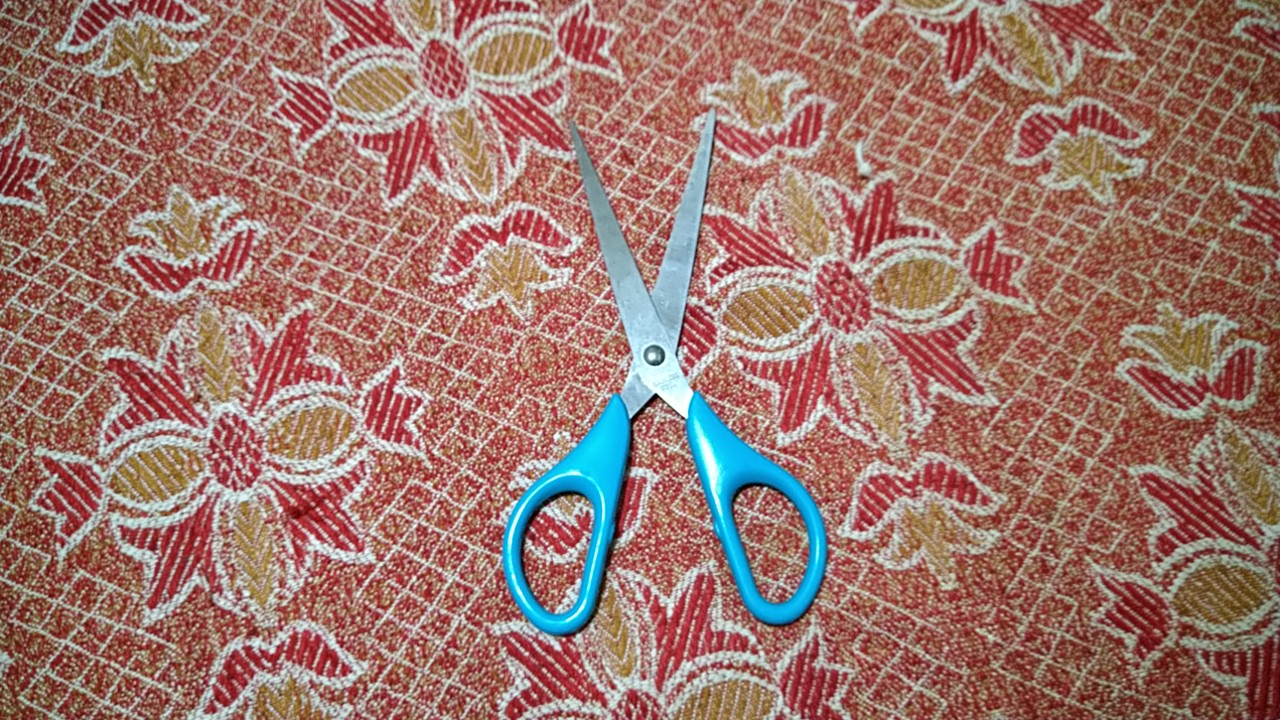scissor: (477, 100, 861, 653)
